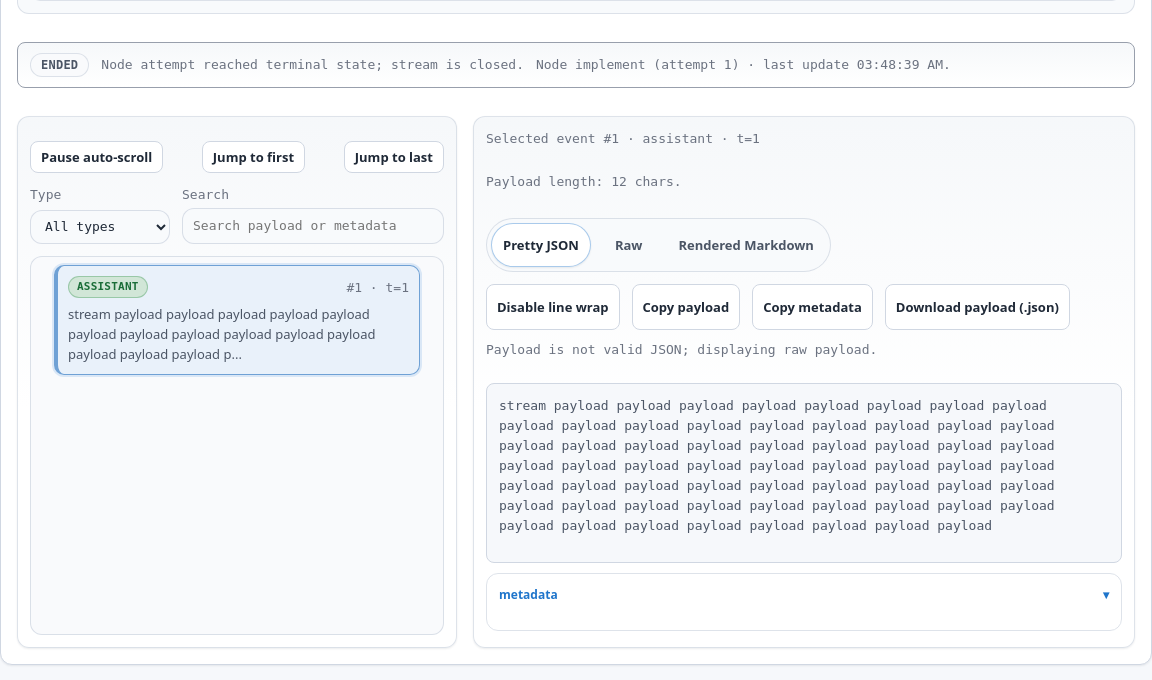
it: RunDetailContent realtime updates › renders long stream event payloads in inspector detail view
(page scrolled)
Step 1. Click the button that starts with "assistant" → (237, 320), box [54,265,420,375]
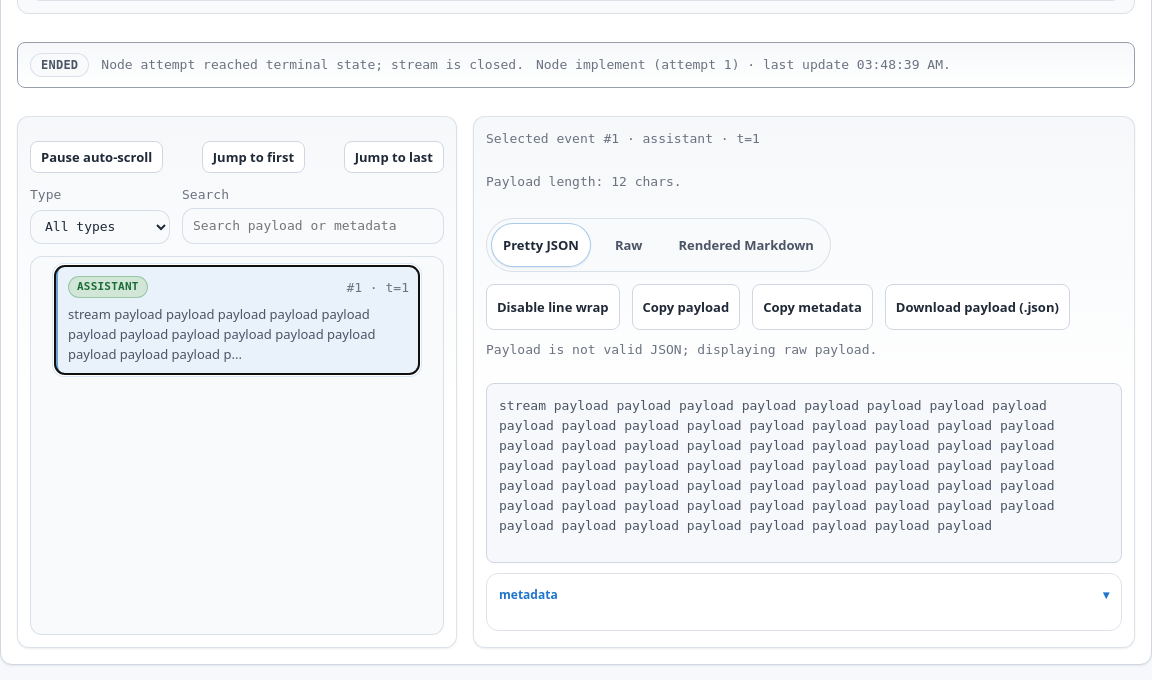
Step 2. Click the button "Disable line wrap" → (553, 307), box [486,284,620,330]
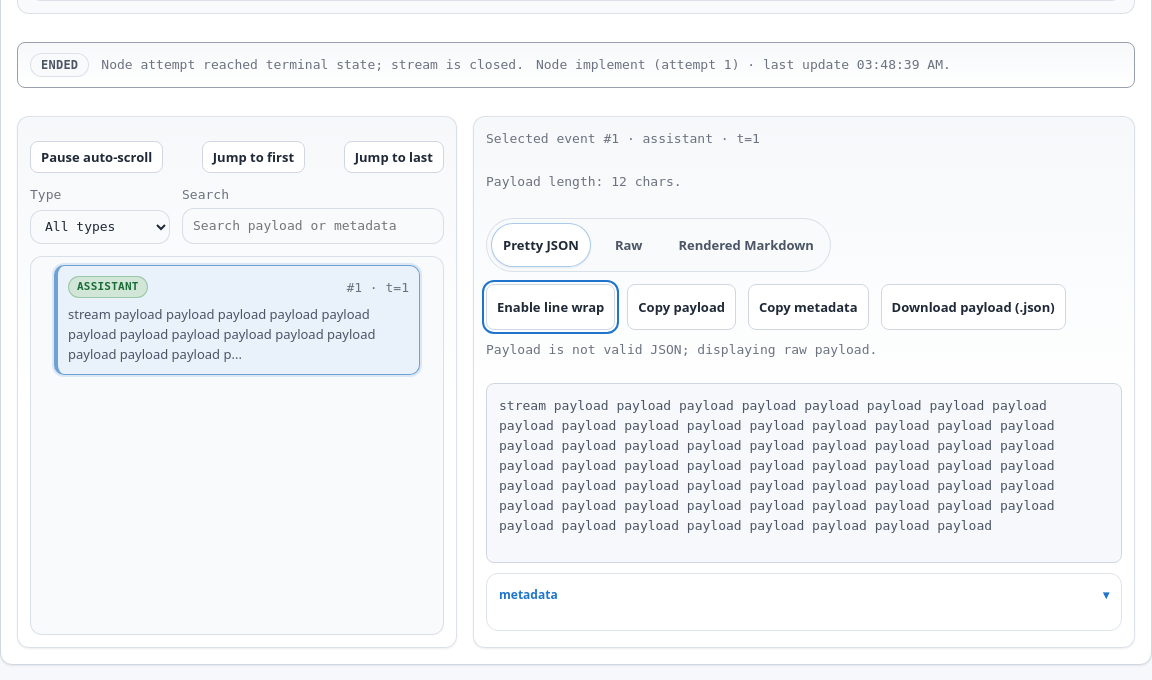
Check: the button "Enable line wrap" is shown, box [486,284,615,330]
